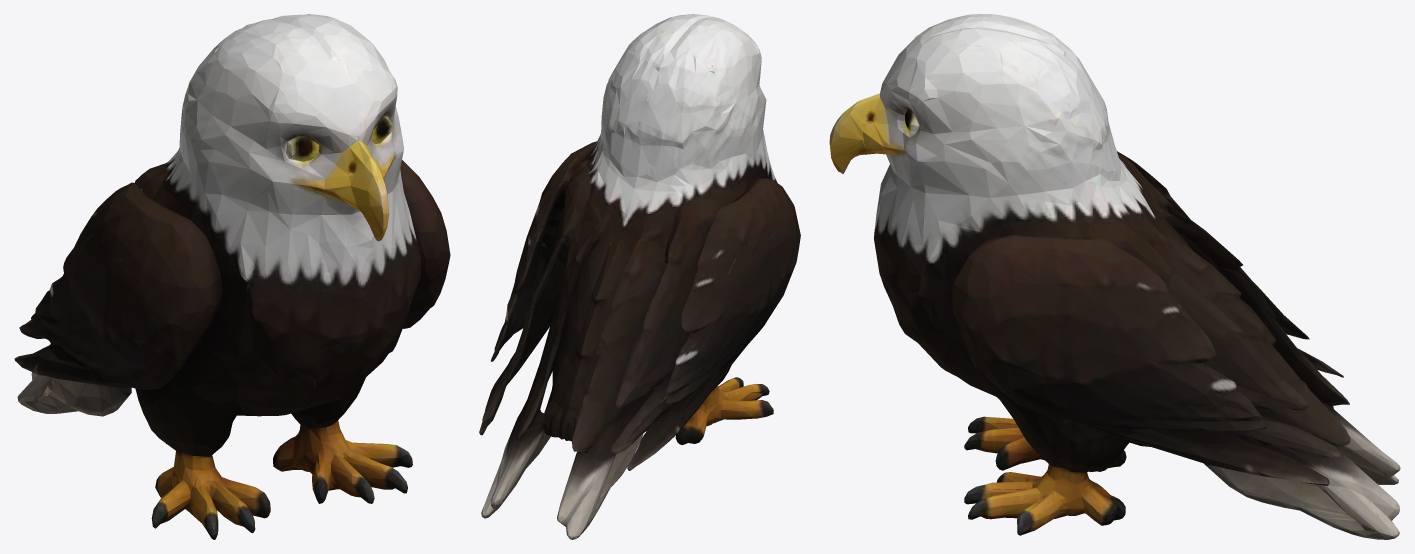
The model's file is bald_eagle.glb.
3 renders of one model, left to right at view 1: azimuth 30°, elevation 25°; view 2: azimuth 150°, elevation 25°; view 3: azimuth 270°, elevation 25°, orthographic. The views are drawn at different scales.
Visible parts, largest first — view 1: geometry_0; view 2: geometry_0; view 3: geometry_0.
Part boxes in pixels (box(x1,y1,x2,y2)): geometry_0: box(14, 14, 450, 539); geometry_0: box(479, 14, 800, 539); geometry_0: box(829, 14, 1400, 539).
Size of the model in its own units: 0.5705 by 0.9413 by 1.
1 material, 1 textured.
